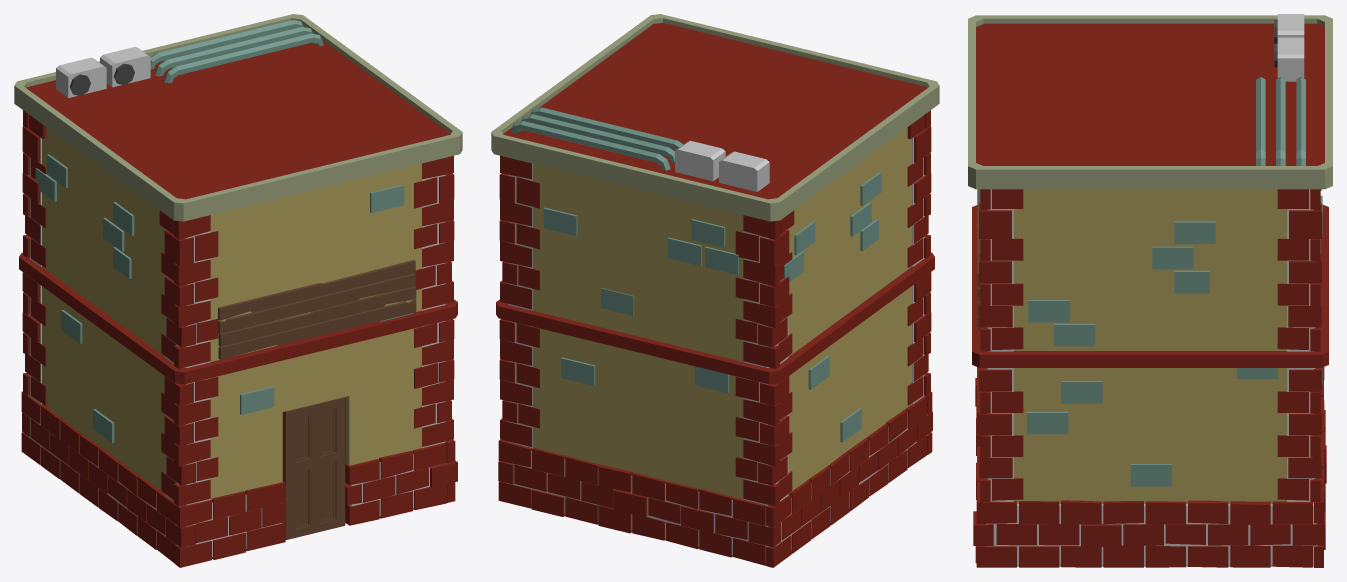
The model's file is quat_2story_sign.glb.
3 renders of one model, left to right at view 1: azimuth 30°, elevation 25°; view 2: azimuth 150°, elevation 25°; view 3: azimuth 270°, elevation 25°, orthographic. The views are drawn at different scales.
Visible parts, largest first — view 1: 2Story_Sign_Cube.001; view 2: 2Story_Sign_Cube.001; view 3: 2Story_Sign_Cube.001.
Boxes of the visible parts, <box> form: 2Story_Sign_Cube.001: <box>14,14,462,567</box>; 2Story_Sign_Cube.001: <box>491,14,939,567</box>; 2Story_Sign_Cube.001: <box>968,14,1332,567</box>.
Bounding box in the file's own units: 2.15 × 2.76 × 2.15.
1 material, 1 textured.
